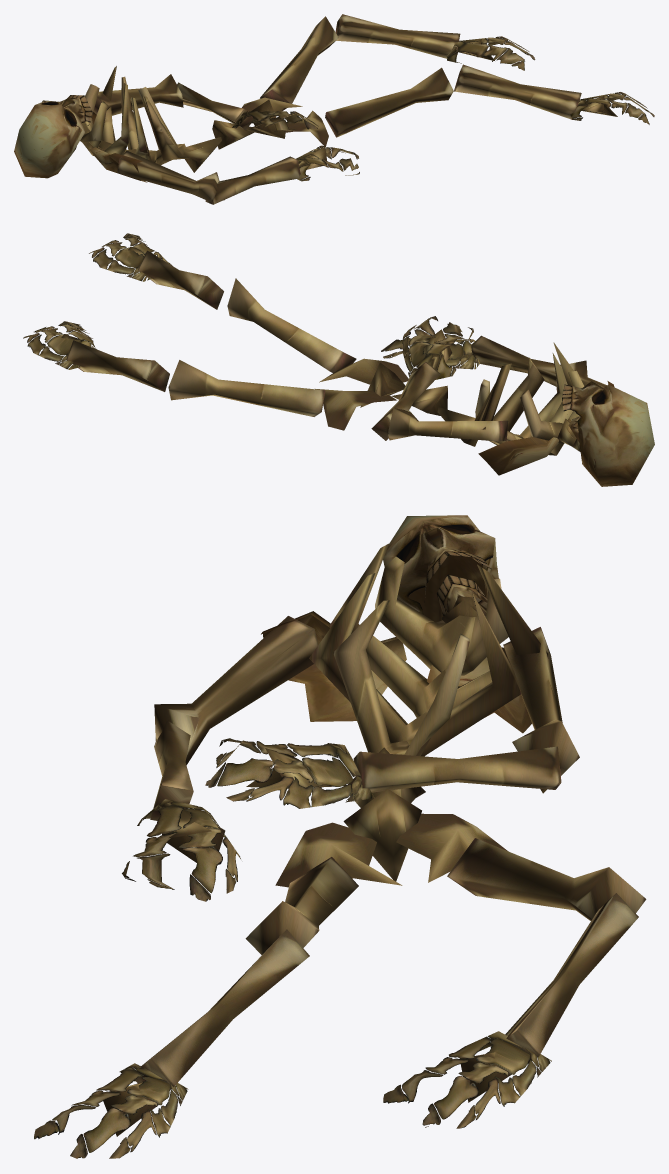
File: skeletonlaying03.obj
3 views of the same model, one above another, from view 1: azimuth 30°, elevation 25°; view 2: azimuth 150°, elevation 25°; view 3: azimuth 270°, elevation 25° (orthographic). The views are drawn at different scales.
Visible parts, largest first — view 1: Geoset0, Geoset1, Geoset2; view 2: Geoset0, Geoset1, Geoset2; view 3: Geoset0, Geoset2, Geoset1.
Part boxes in pixels (x1,y1,x2,y2): Geoset0: [80, 14, 617, 204]; Geoset1: [14, 95, 147, 182]; Geoset2: [232, 36, 654, 181]; Geoset0: [61, 246, 606, 455]; Geoset1: [478, 381, 654, 486]; Geoset2: [23, 233, 480, 379]; Geoset0: [103, 543, 646, 1136]; Geoset2: [34, 738, 551, 1158]; Geoset1: [261, 515, 531, 733].
Size of the model in its own units: 2.01 by 0.3694 by 0.9929.
3 materials, 3 textured.
